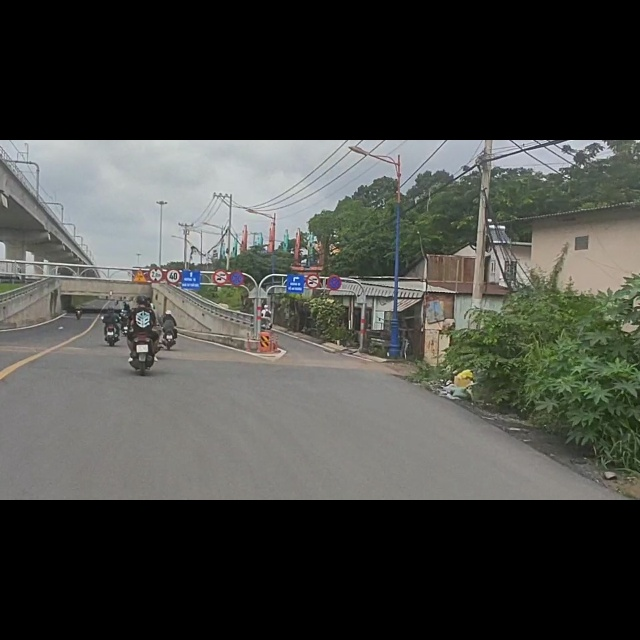bien_cam: (131, 228, 149, 256), (212, 229, 229, 257), (230, 232, 245, 260), (165, 229, 181, 255), (149, 225, 163, 254), (305, 239, 321, 264), (327, 239, 341, 267)
